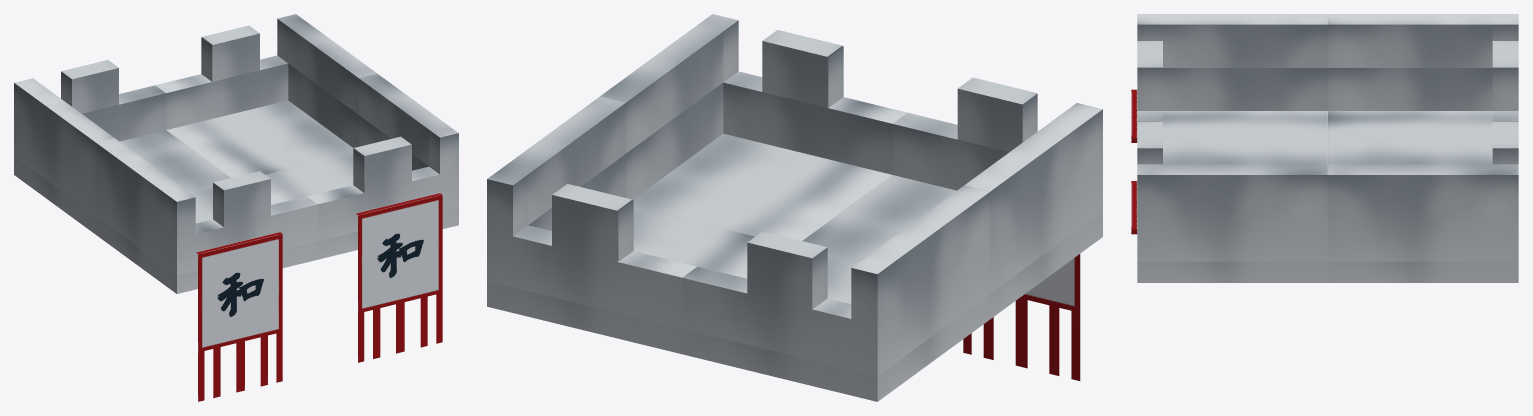
File: gate variant 1.fbx
3 views of the same model, side by side, from view 1: azimuth 30°, elevation 25°; view 2: azimuth 150°, elevation 25°; view 3: azimuth 270°, elevation 25° (orthographic). The views are drawn at different scales.
Parts seen in each view (by area): view 1: roof varaint 1; view 2: roof varaint 1; view 3: roof varaint 1.
Boxes of the visible parts, x1,y1,x2,y2 form: roof varaint 1: (14,14,458,401); roof varaint 1: (487,14,1102,401); roof varaint 1: (1131,14,1518,282).
Bounding box in the file's own units: 78.74 × 54.13 × 79.92.
